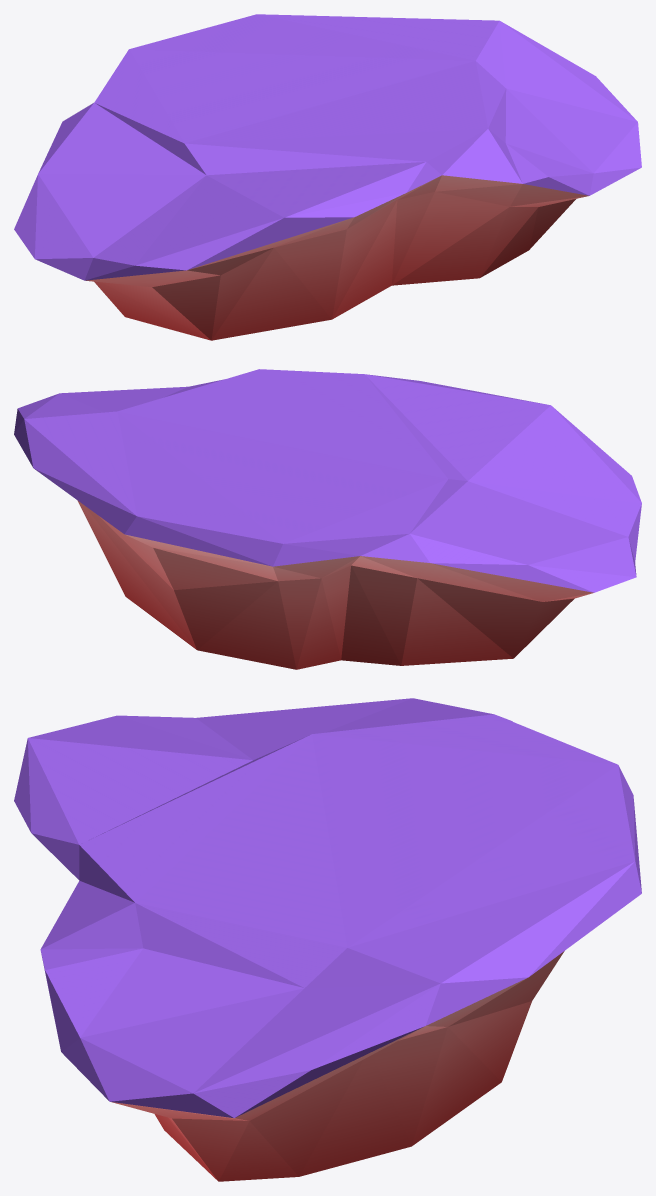
File: SM_Coral_17.fbx
3 renders of one model, top to bottom at view 1: azimuth 30°, elevation 25°; view 2: azimuth 150°, elevation 25°; view 3: azimuth 270°, elevation 25°, orthographic. The views are drawn at different scales.
Parts seen in each view (by area): view 1: Coral_17; view 2: Coral_17; view 3: Coral_17.
Part boxes in pixels (x1,y1,x2,y2): Coral_17: (14, 14, 641, 340); Coral_17: (14, 369, 641, 669); Coral_17: (14, 698, 641, 1181).
Size of the model in its own units: 149 by 40.19 by 96.74.
